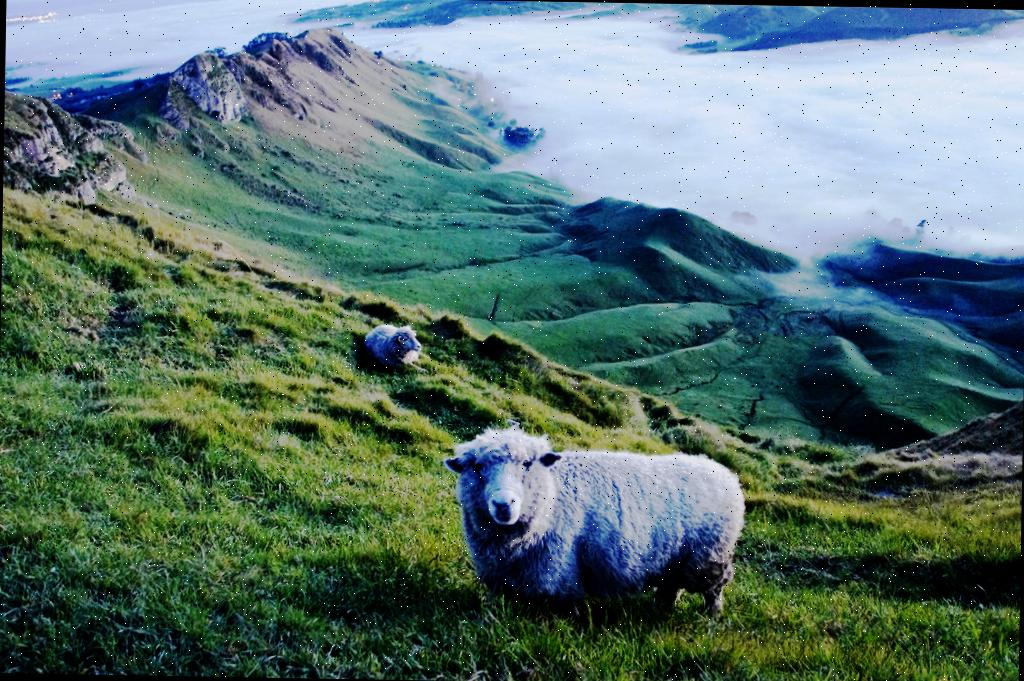Sheep: (440, 425, 744, 628), (360, 324, 428, 375)
